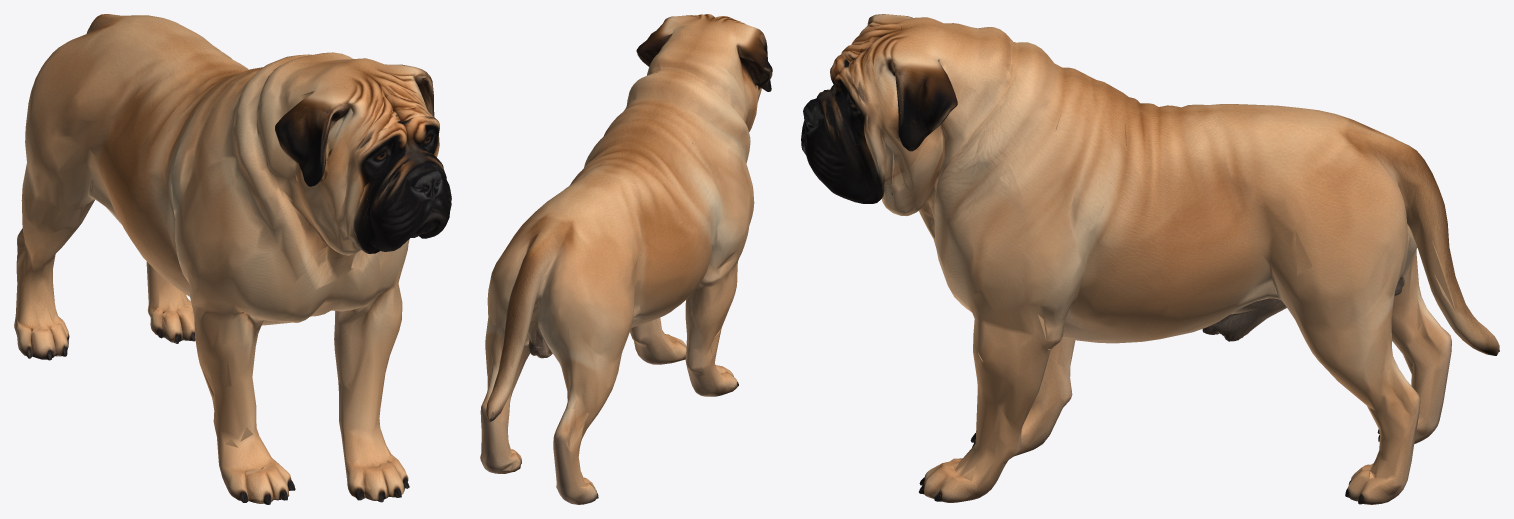
File: english_mastiff.glb
The picture shows the model from 3 angles, left to right: view 1: azimuth 30°, elevation 25°; view 2: azimuth 150°, elevation 25°; view 3: azimuth 270°, elevation 25°; orthographic projection. The views are drawn at different scales.
Parts seen in each view (by area): view 1: Mesh_0; view 2: Mesh_0; view 3: Mesh_0.
Part boxes in pixels (bbox=[...]): Mesh_0: bbox=[14, 14, 451, 504]; Mesh_0: bbox=[480, 14, 772, 504]; Mesh_0: bbox=[801, 14, 1499, 504].
Size of the model in its own units: 0.6535 by 1.34 by 1.9.
Materials: 1 (1 with a texture image).
